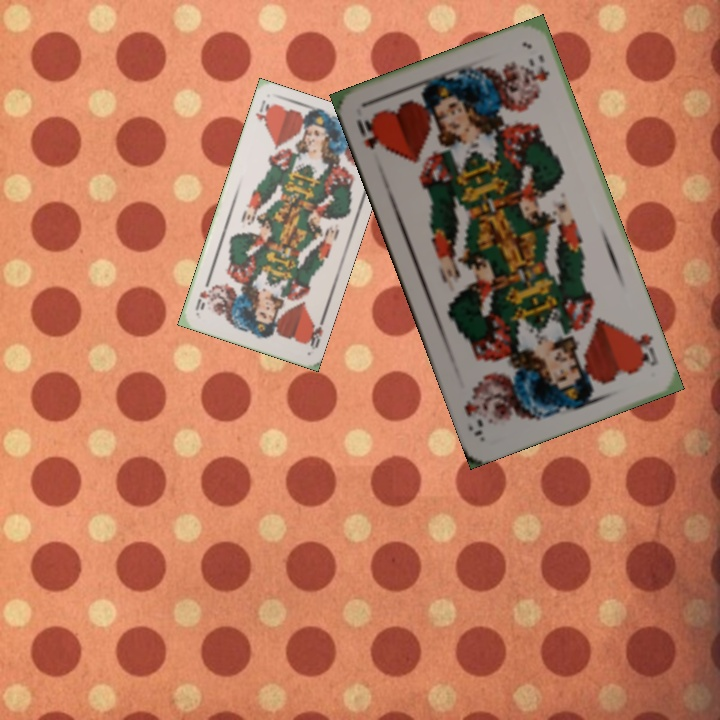HO: (626, 330, 660, 369), (352, 114, 386, 152), (302, 313, 327, 352), (251, 96, 275, 128)
